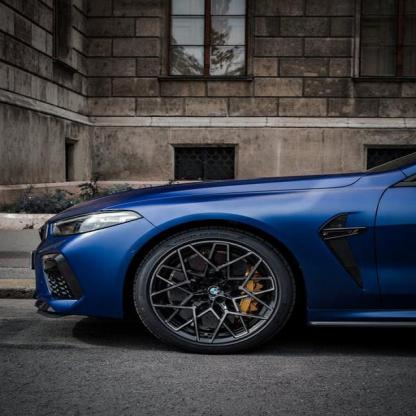Tire: (133, 226, 298, 357)
